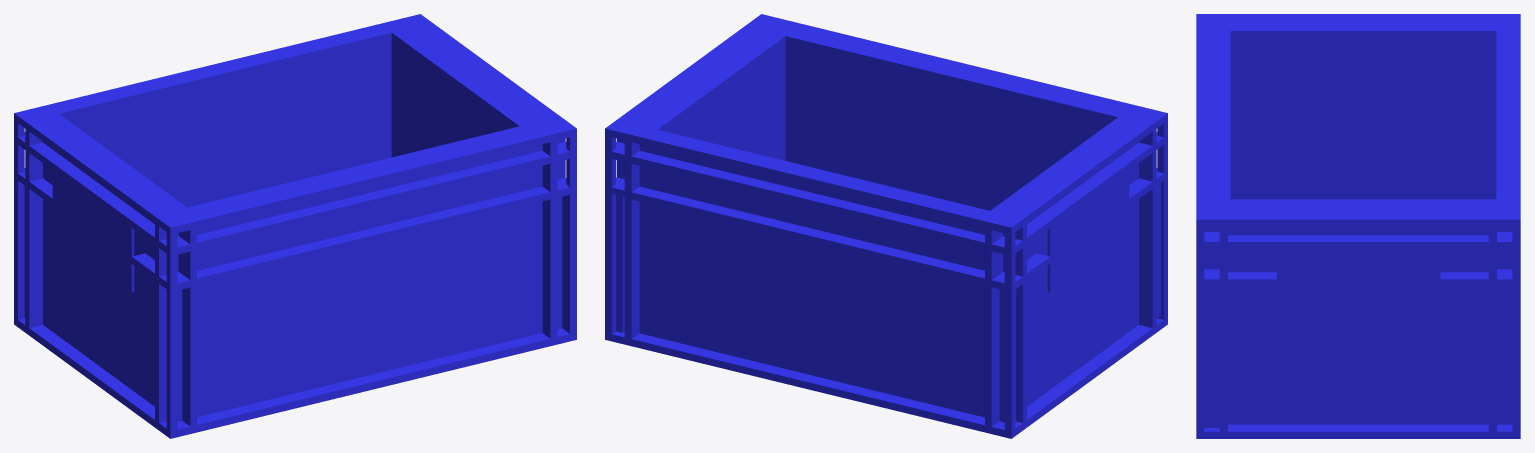
The model's file is emaLIB_KLT_243-162-129-5.dae.
3 views of the same model, side by side, from view 1: azimuth 30°, elevation 25°; view 2: azimuth 150°, elevation 25°; view 3: azimuth 270°, elevation 25° (orthographic). The views are drawn at different scales.
Parts seen in each view (by area): view 1: KLT_243-162-129,5 (×2); view 2: KLT_243-162-129,5 (×2); view 3: KLT_243-162-129,5 (×2).
Part boxes in pixels (x1,y1,x2,y2): KLT_243-162-129,5 (×2): (14,14,576,438); KLT_243-162-129,5 (×2): (605,14,1167,438); KLT_243-162-129,5 (×2): (1196,14,1520,438).
Bounding box in the file's own units: 11.69 × 7.8 × 5.81.
